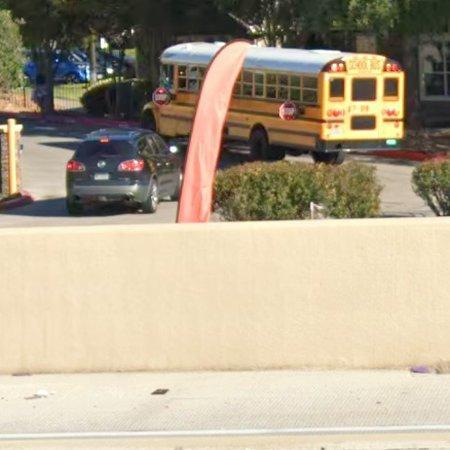buses: (143, 43, 222, 136)
